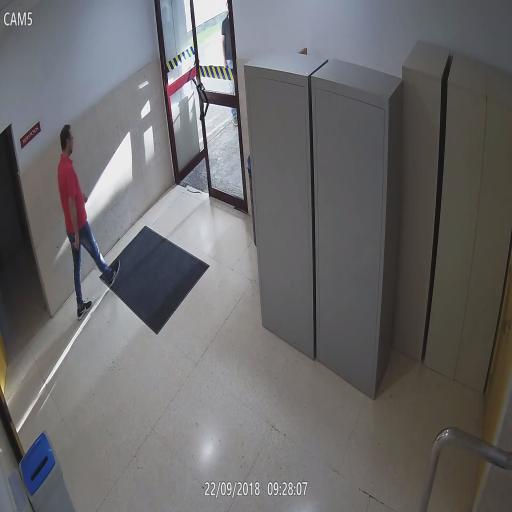Handgun: (71, 231, 82, 263)
